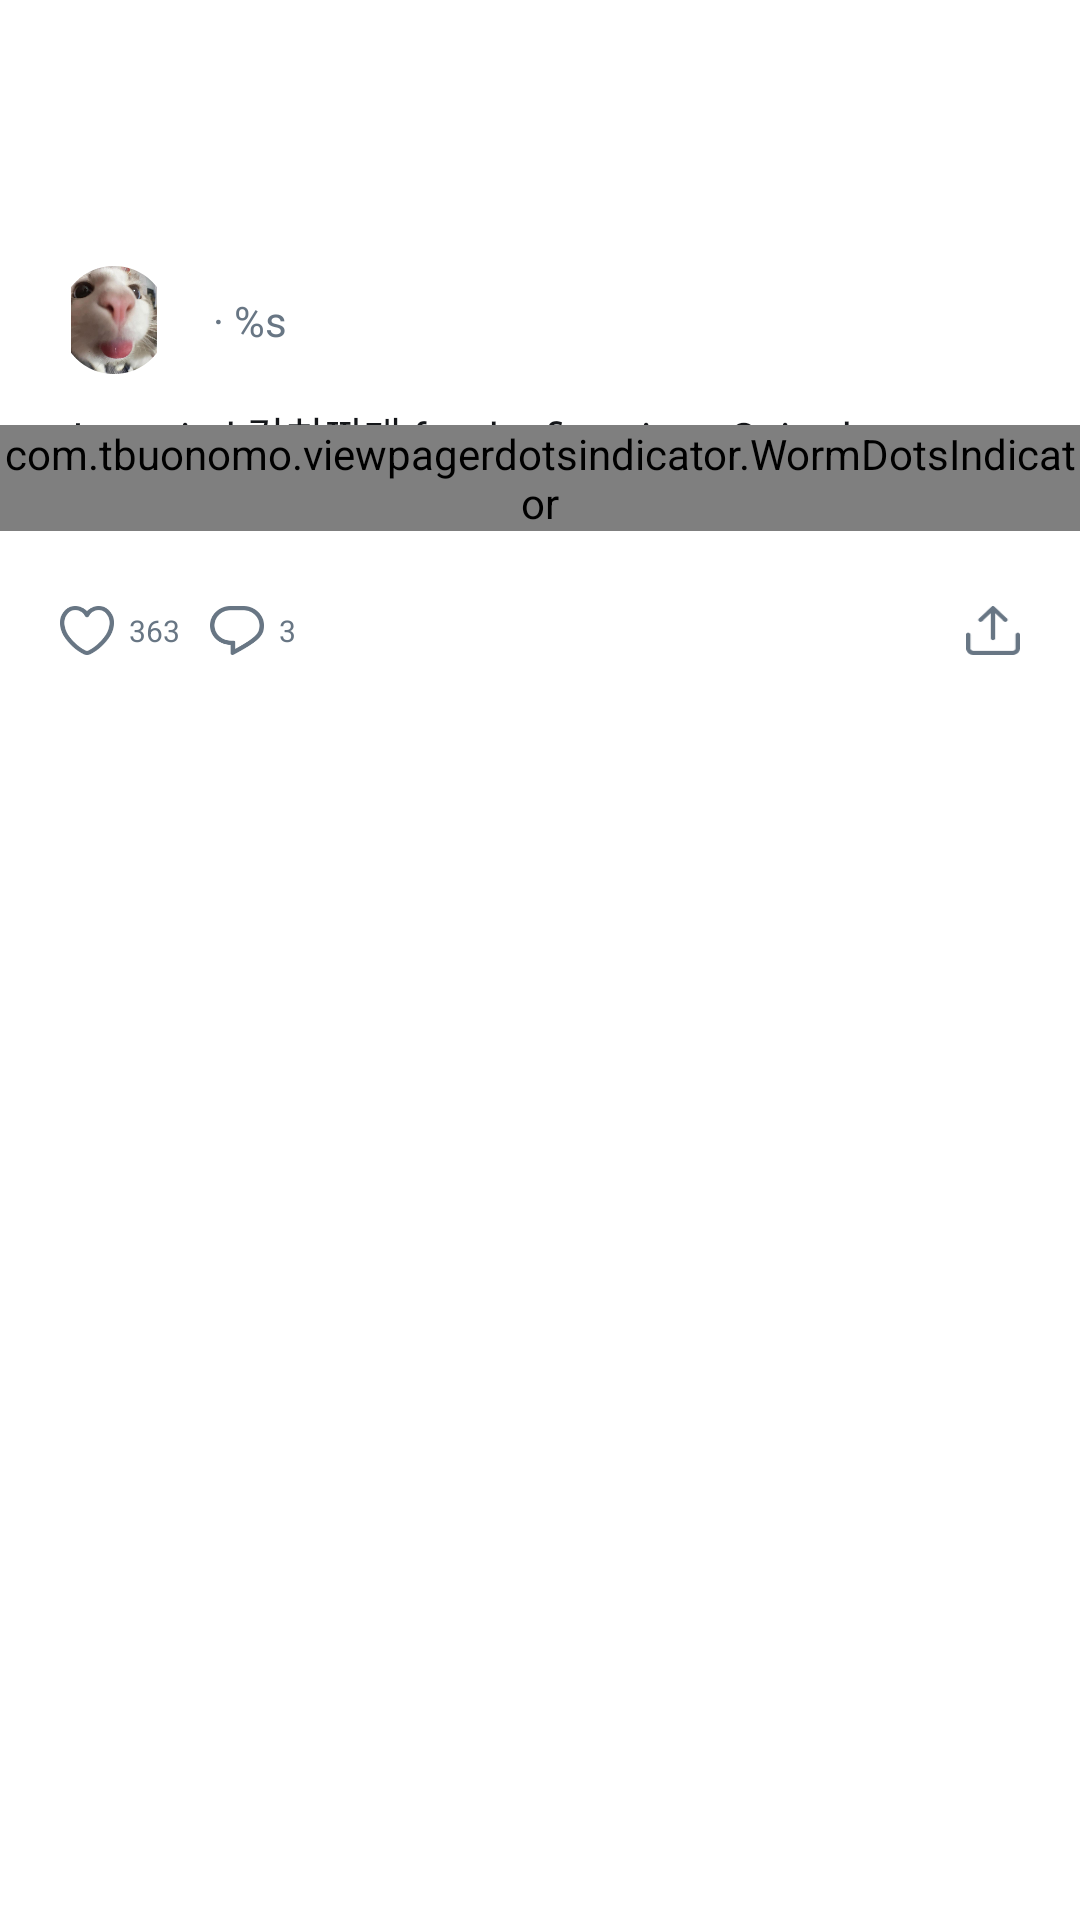

Icon bounding boxes for this 1080 x 1920 phone screenshot, format BBox(x1, y1, x2, y2):
comment: BBox(210, 606, 264, 655)
profile: BBox(71, 266, 157, 374)
share: BBox(966, 606, 1020, 655)
